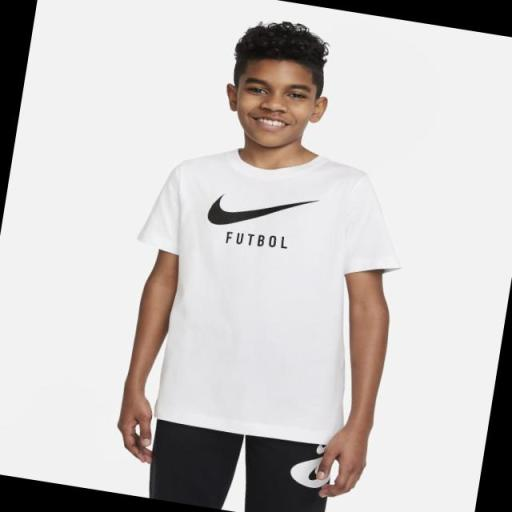Nike: (190, 180, 327, 242)
